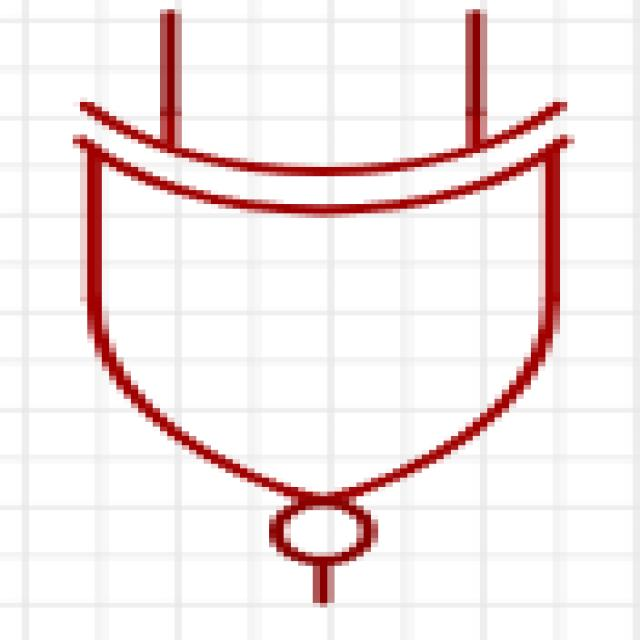xnor: (52, 2, 598, 610)
